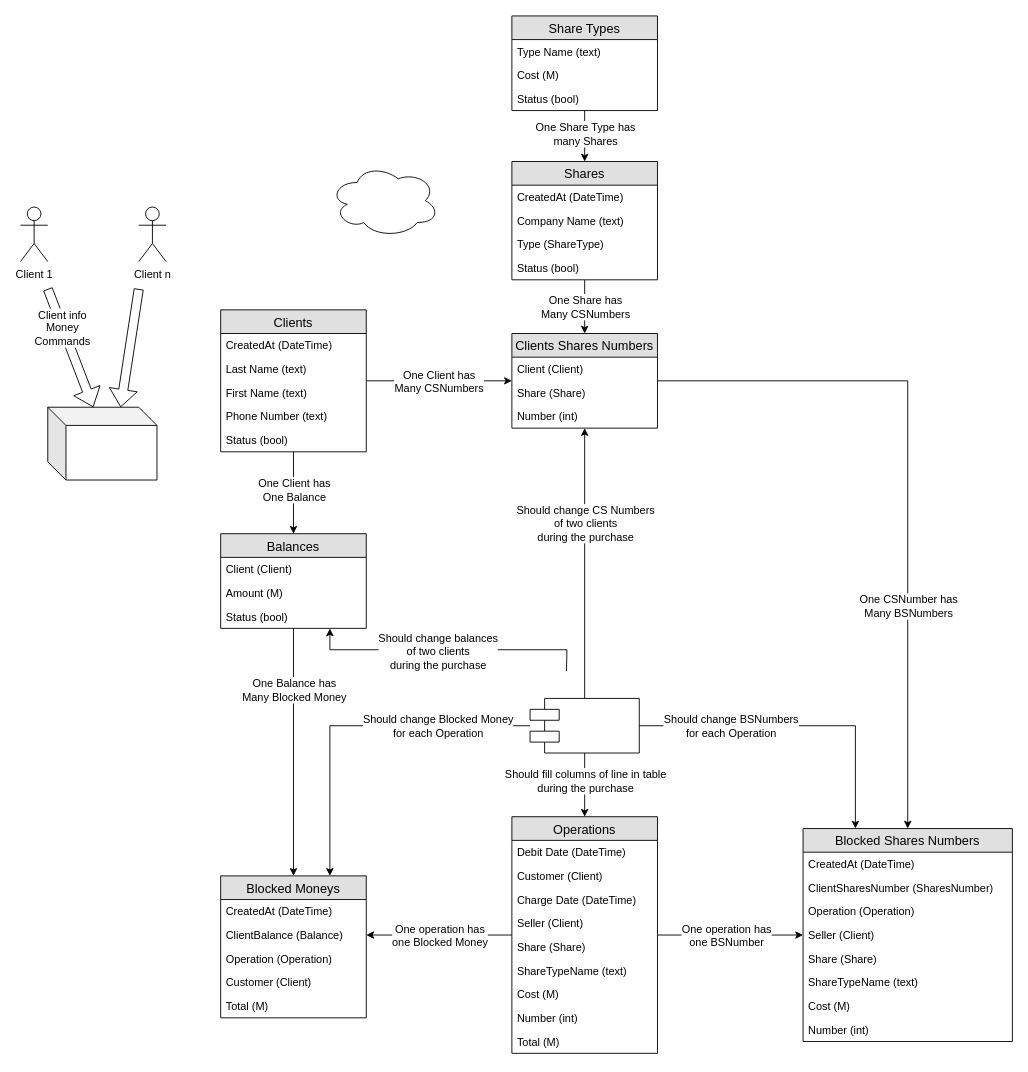
The diagram is 1028 pixels wide and 1072 high, and some of its shapes have lost their labels. Each missing label, with the centre of its shape:
Sale Handler: point (584, 725)
Stock Exchange: point (102, 443)
Traiding app: point (384, 200)
